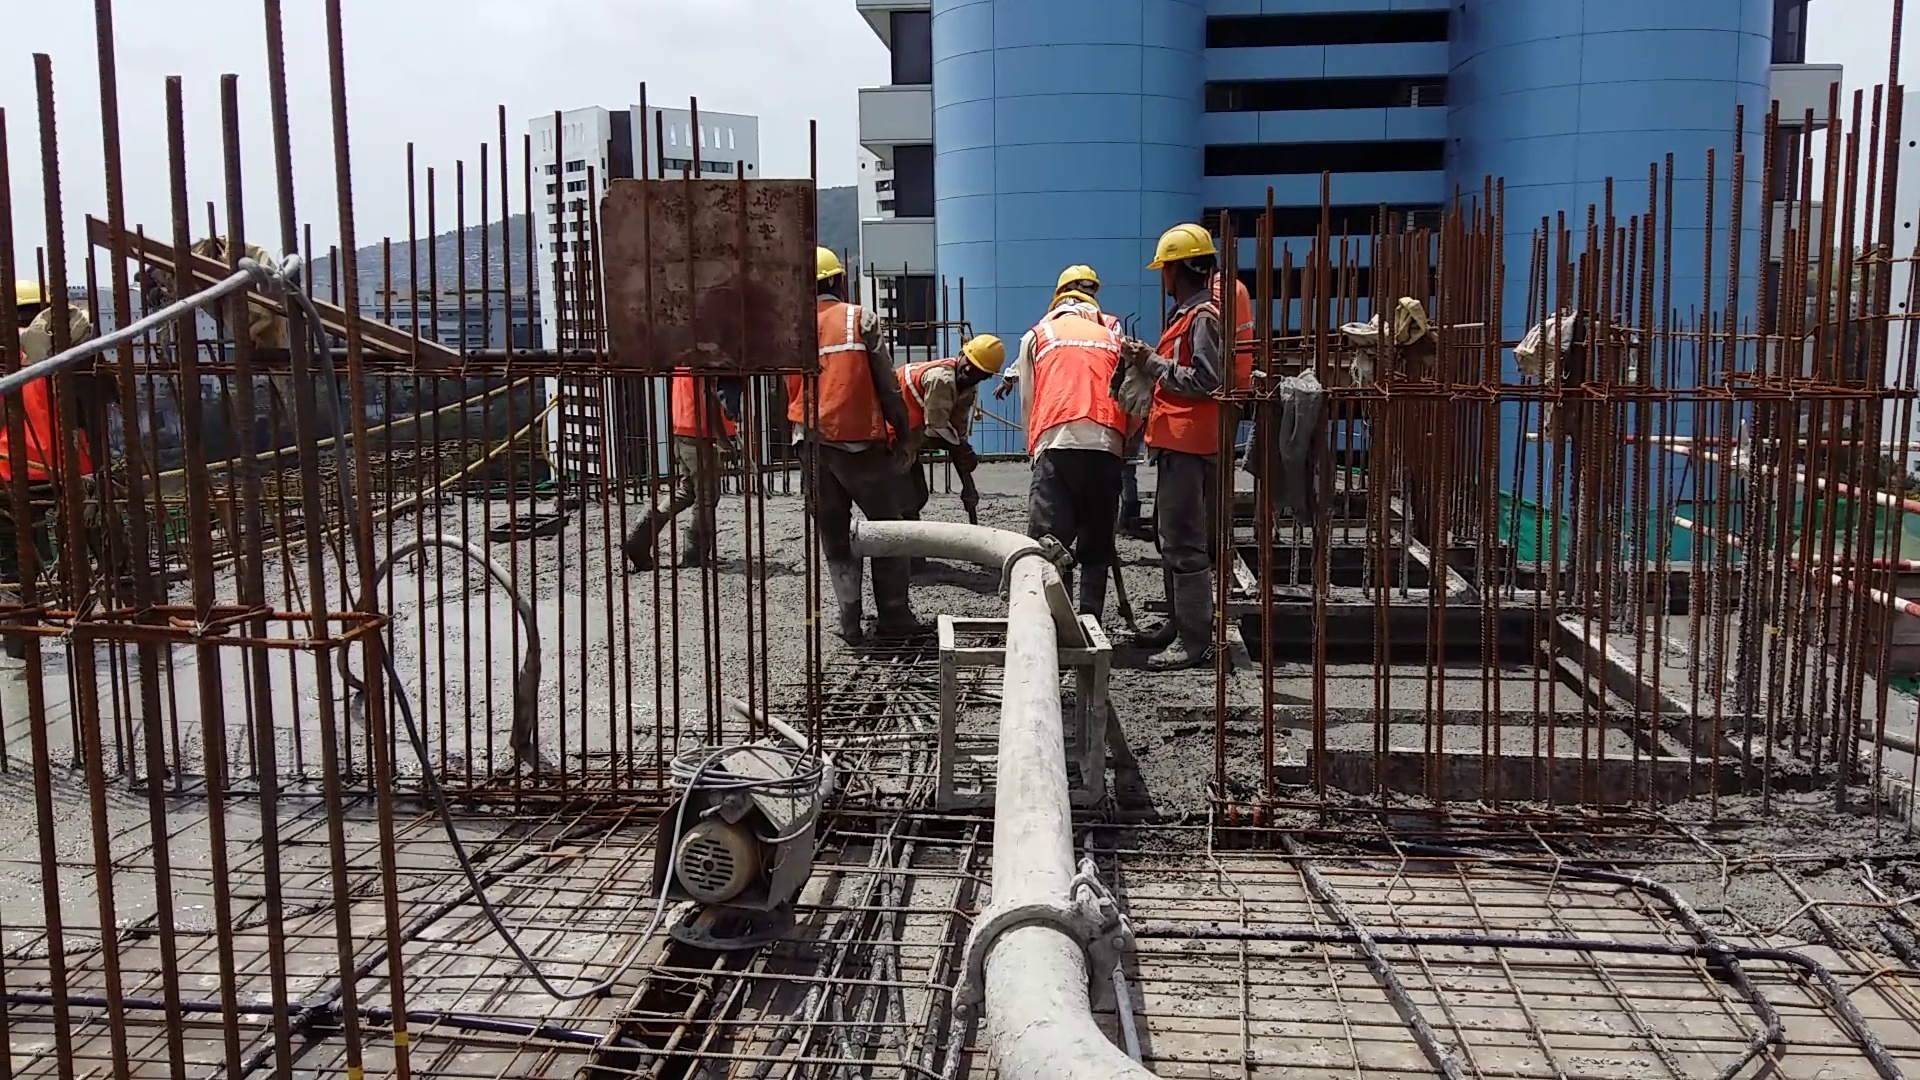SAFE: (1023, 265, 1137, 448), (1149, 222, 1222, 454), (814, 247, 884, 472)
